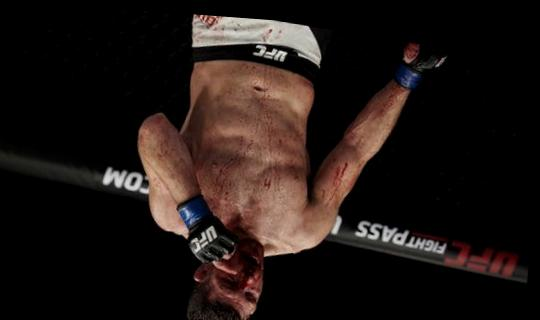Fire: (138, 55, 410, 315), (196, 11, 295, 41)
